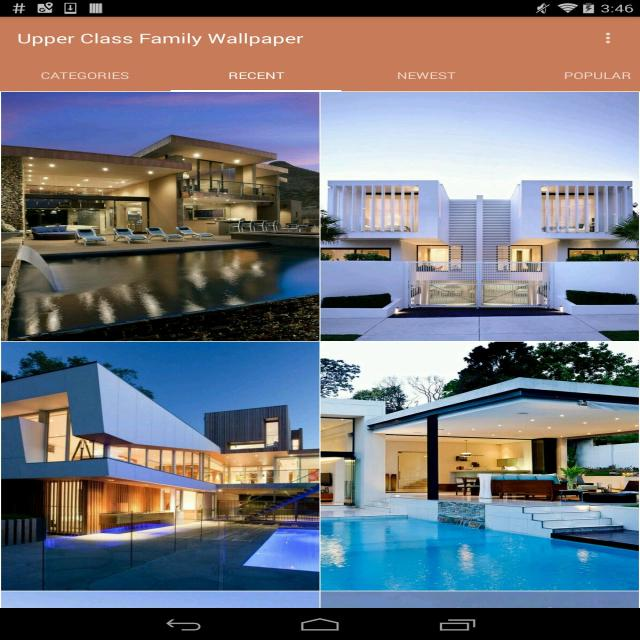button: (170, 66, 342, 92), (342, 65, 498, 92), (14, 66, 168, 90), (498, 65, 640, 91), (598, 28, 622, 52)
heading: (12, 30, 306, 48)
image: (321, 91, 639, 342), (1, 92, 319, 341), (2, 342, 319, 591)
